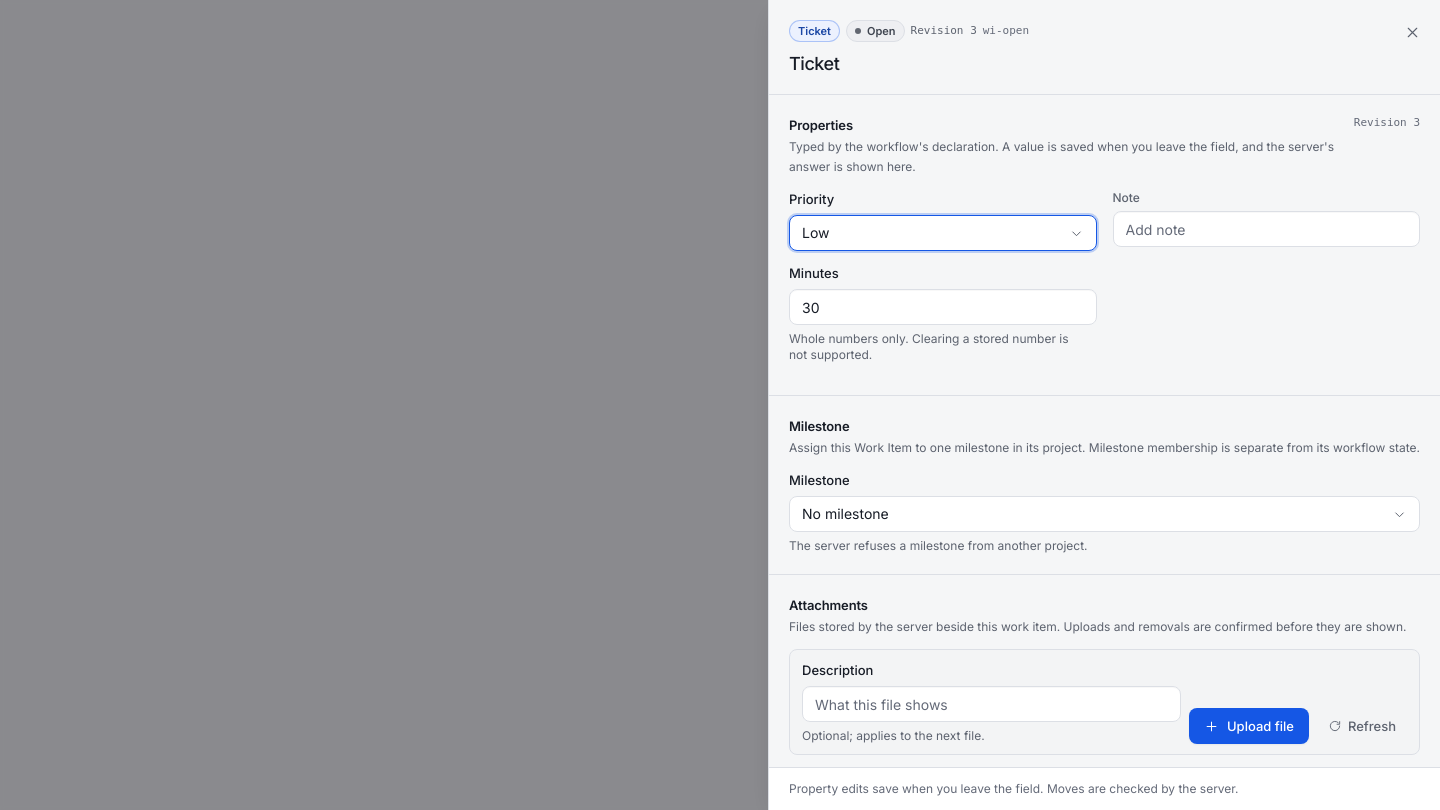
Scenario: work-item sheet closes honestly › reverts a cleared integer and closes without sending a clear command
Clear the number field labelled "Minutes" at point(943, 307), box x1=789 y1=289 x2=1096 y2=325
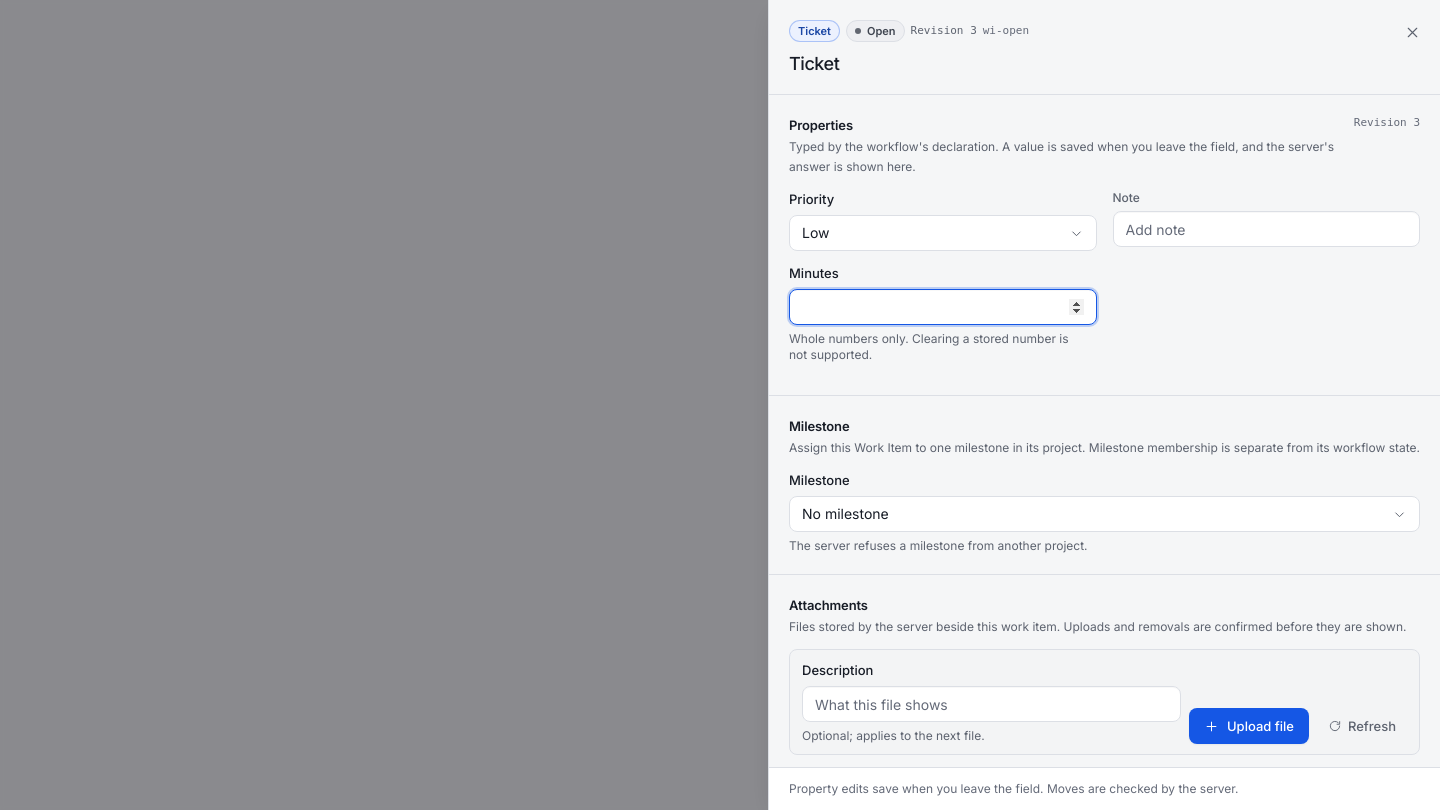
Click the button named "Close work item details".
click(1412, 32)  # box x1=1396 y1=16 x2=1428 y2=48
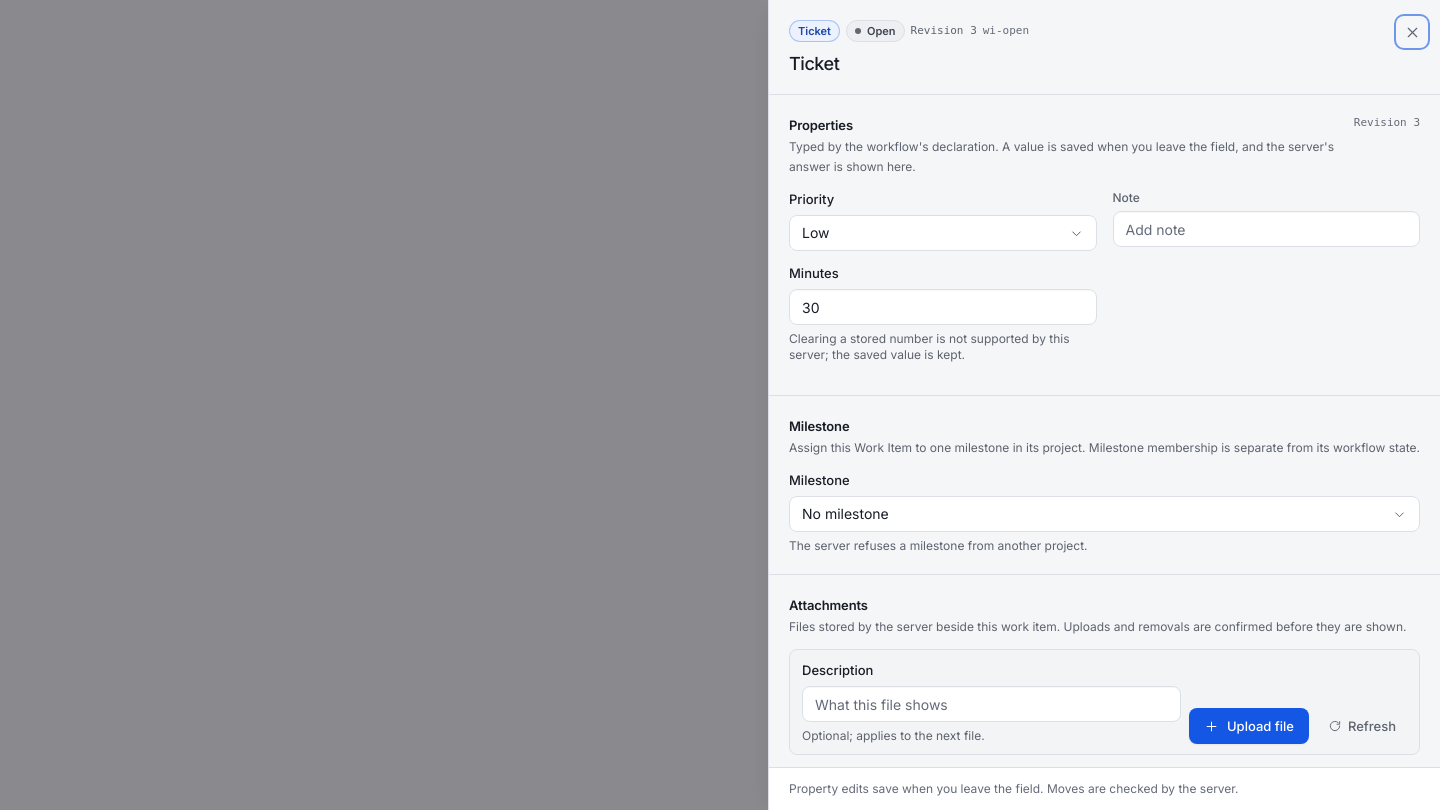
Expected: the text "Clearing a stored number is not supported" is shown, x1=789 y1=331 x2=1070 y2=362
Expected: the number field labelled "Minutes" holds "30", x1=789 y1=289 x2=1096 y2=325
